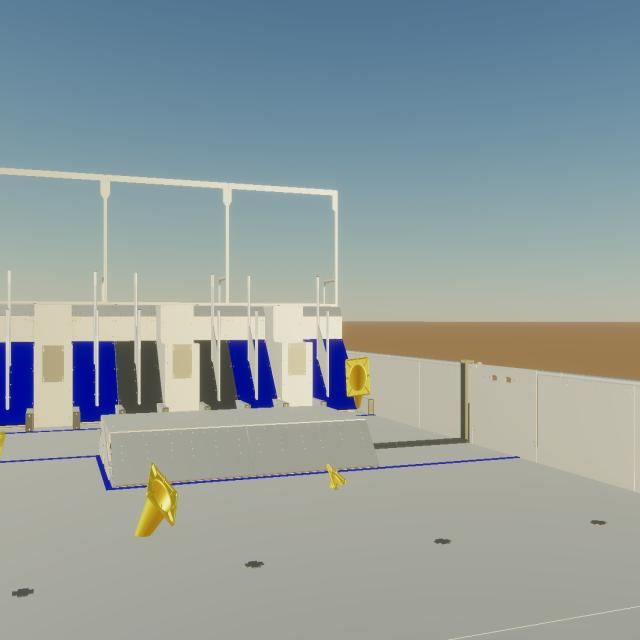frc_cone: (134, 463, 178, 537), (346, 357, 370, 409), (326, 463, 347, 490), (0, 431, 6, 462)
